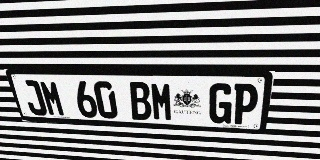0: (92, 81, 118, 119)
6: (72, 81, 99, 118)
B: (128, 82, 152, 120)
G: (208, 83, 234, 124)
J: (20, 80, 48, 116)
M: (38, 80, 66, 116), (150, 82, 173, 121)
P: (231, 83, 260, 125)
